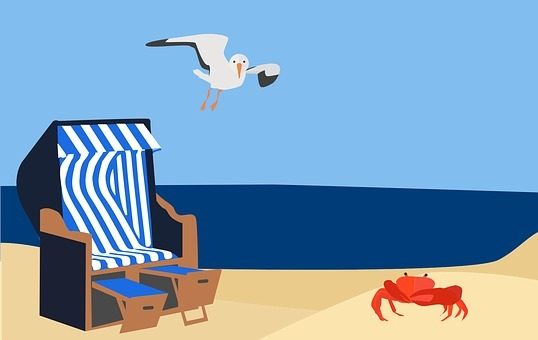bird: (144, 29, 280, 115)
chair: (14, 114, 220, 333)
